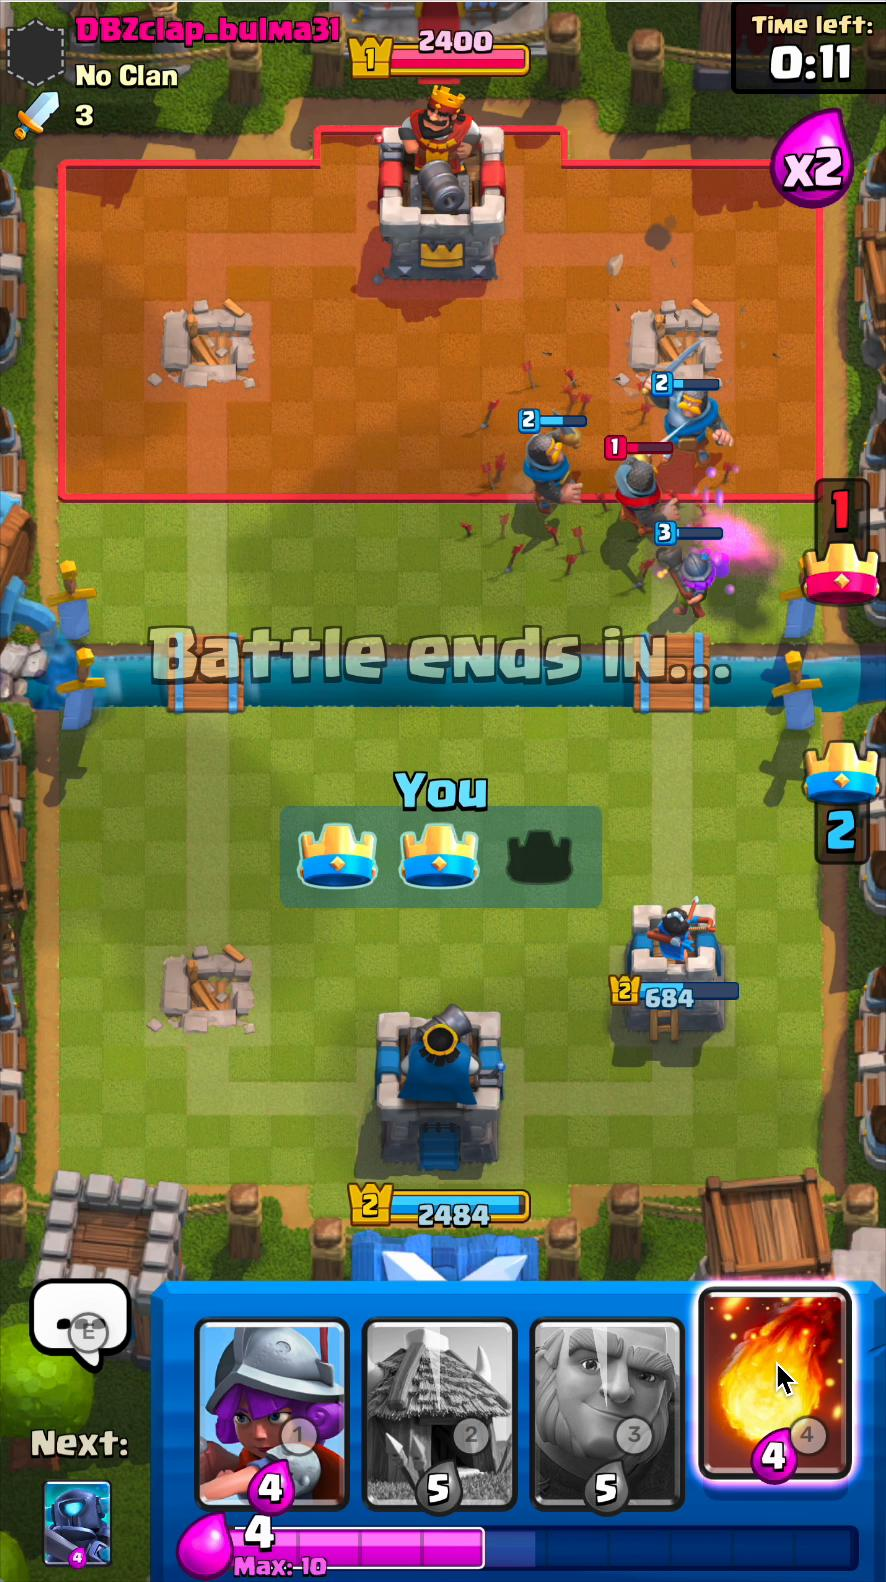chevalier: (603, 415, 688, 549), (649, 341, 735, 467), (517, 407, 587, 535)
mousquetaire: (647, 538, 728, 630)
